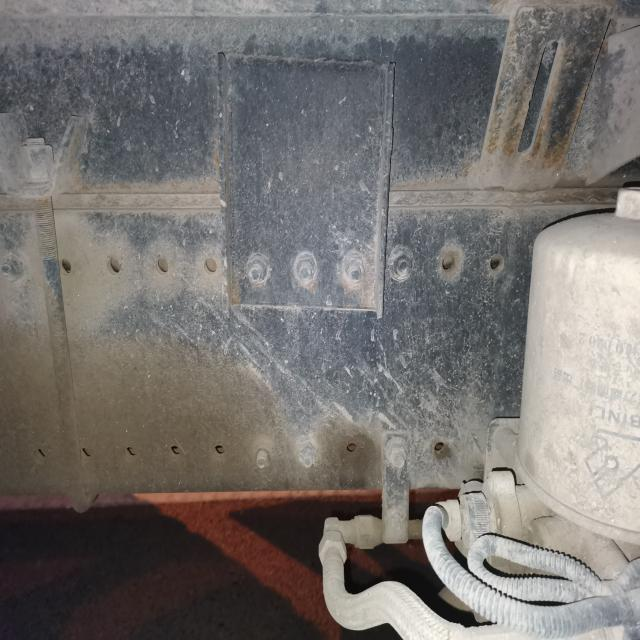bolt nut: (1, 250, 23, 285), (294, 253, 318, 284), (245, 255, 269, 285), (390, 250, 413, 280), (387, 439, 408, 470), (344, 255, 366, 284), (297, 439, 318, 468), (252, 441, 272, 468), (389, 511, 404, 533)
bolt side: (15, 136, 56, 174)
